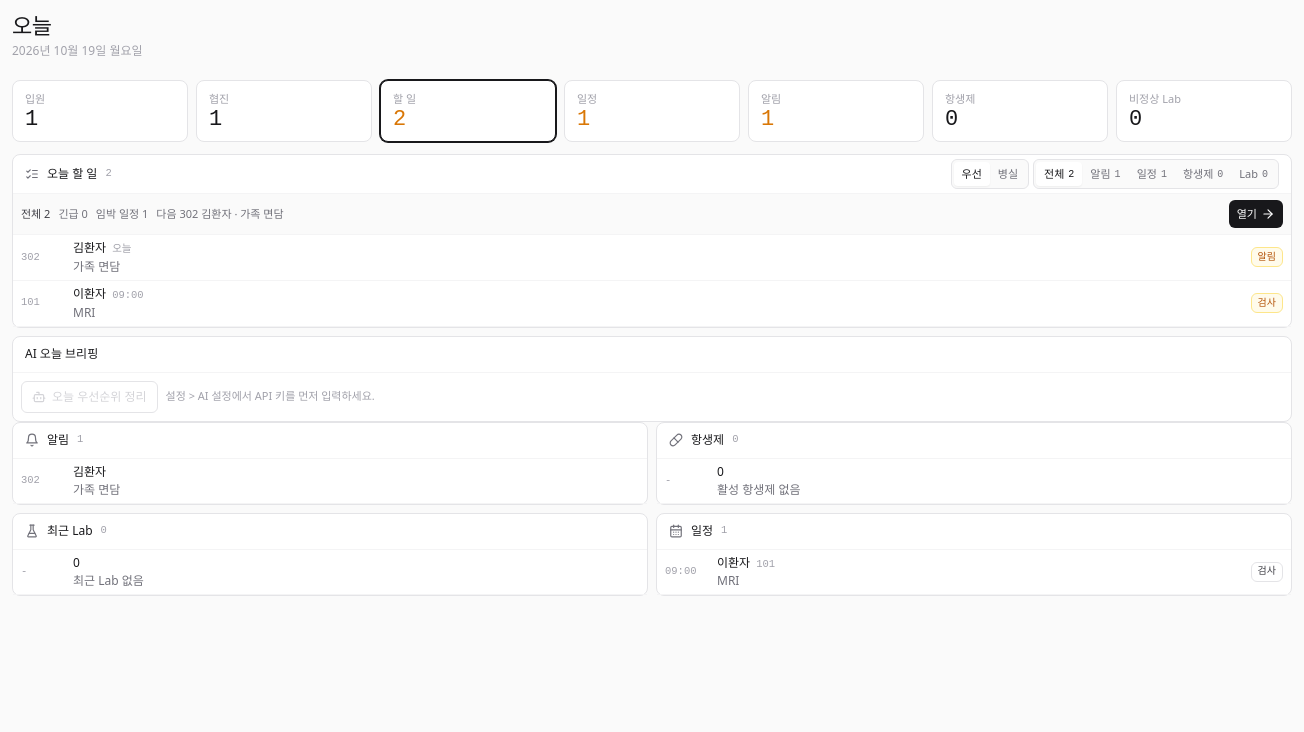
Test: TodayDashboard › filters the task list when a metric tile is clicked
The width and height of the screenshot is (1304, 732).
Expected: the text "MRI" is shown 2 times, top-left (73, 304), bottom-right (95, 320); top-left (717, 572), bottom-right (739, 589)
Click the button "알림 1" in the row of "협진" at (836,111), box top-left (748, 80), bottom-right (924, 142)
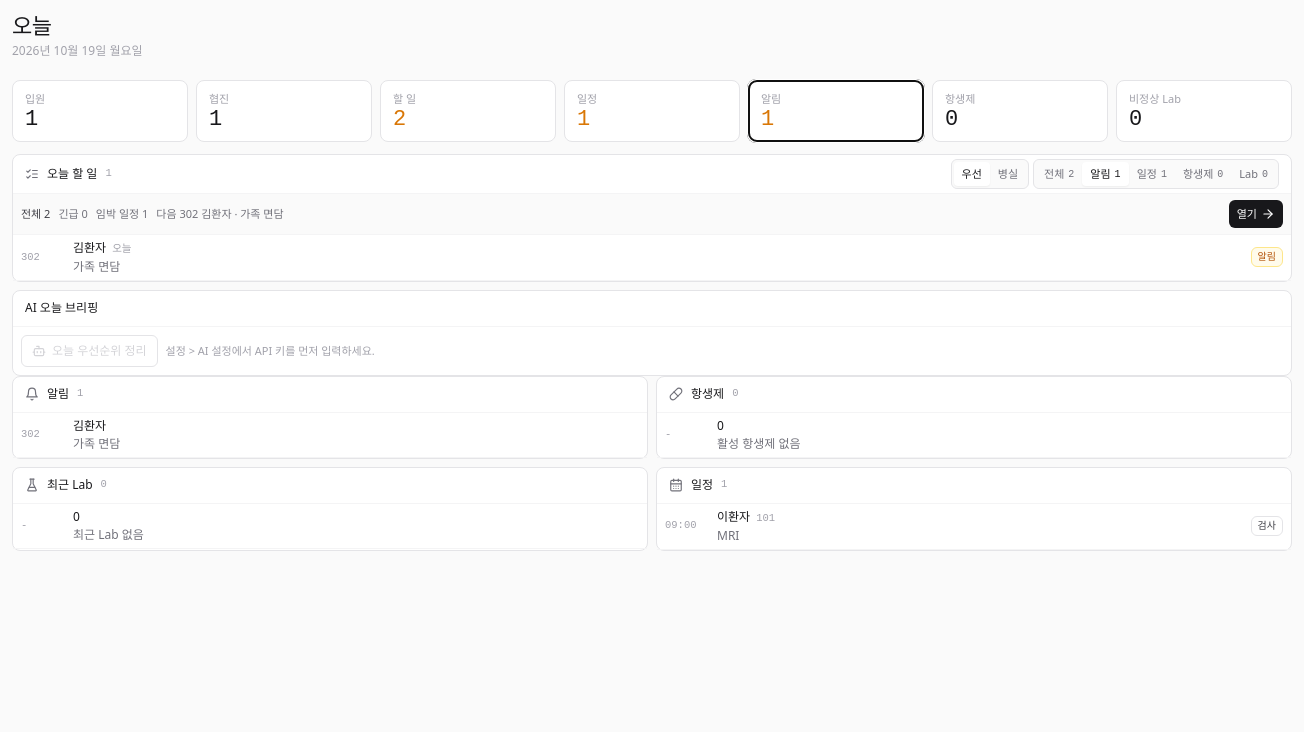
Result: the text "가족 면담" is shown 2 times at top-left (73, 258), bottom-right (120, 275); top-left (73, 435), bottom-right (120, 452)
Result: the text "MRI" is shown once at top-left (717, 526), bottom-right (739, 544)
